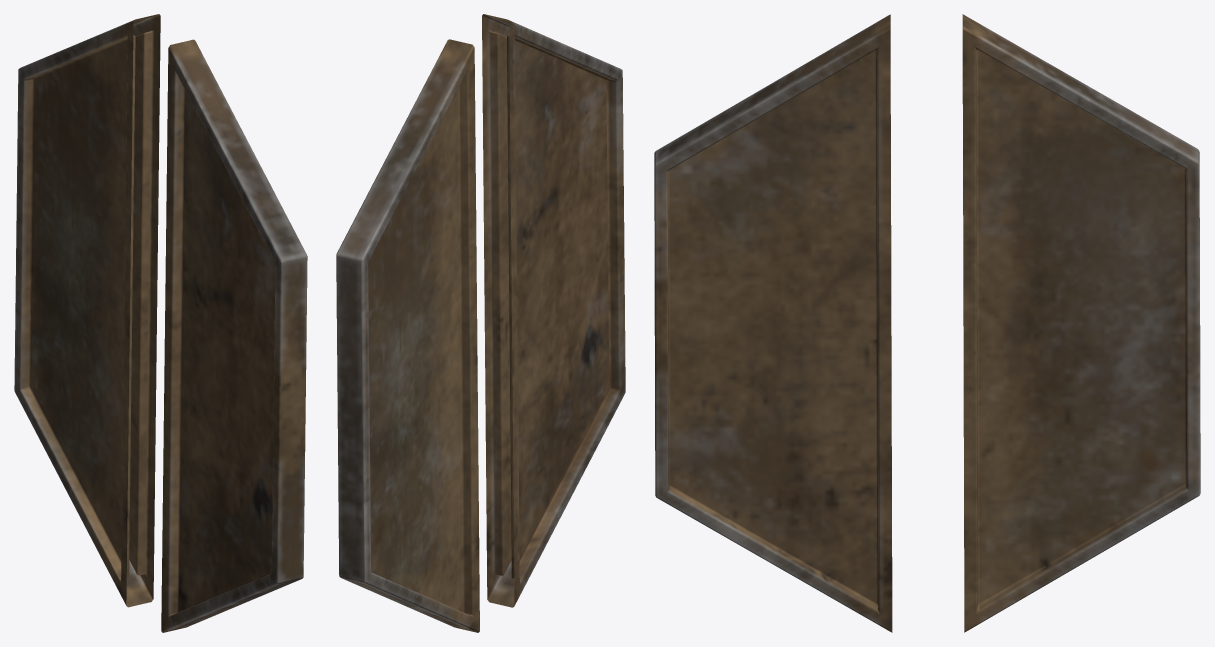
Rendered from SM_Beam_Support.fbx.
3 views of the same model, side by side, from view 1: azimuth 30°, elevation 25°; view 2: azimuth 150°, elevation 25°; view 3: azimuth 270°, elevation 25° (orthographic). The views are drawn at different scales.
Parts seen in each view (by area): view 1: SM_Beam_Support_LOD0; view 2: SM_Beam_Support_LOD0; view 3: SM_Beam_Support_LOD0.
Boxes of the visible parts, x1,y1,x2,y2 form: SM_Beam_Support_LOD0: (14, 14, 307, 632); SM_Beam_Support_LOD0: (336, 14, 625, 632); SM_Beam_Support_LOD0: (654, 14, 1200, 632).
Bounding box in the file's own units: 2.57 × 34.82 × 42.91.
Materials: 1 (1 with a texture image).
